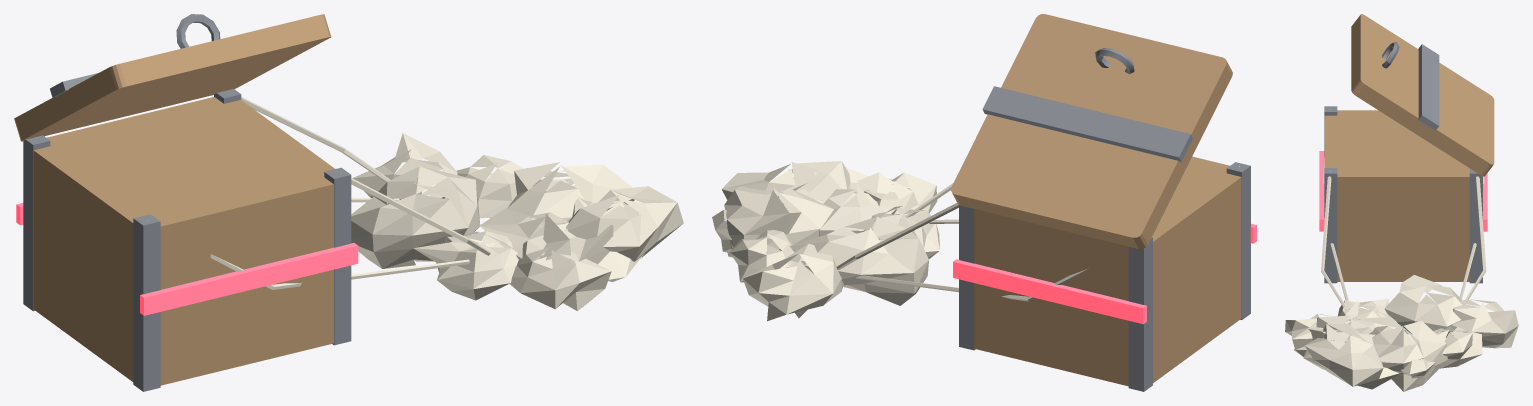
The model's file is pickups-and-collectibles-supply-drop-landed-68ff6a21__19972.glb.
3 views of the same model, side by side, from view 1: azimuth 30°, elevation 25°; view 2: azimuth 150°, elevation 25°; view 3: azimuth 270°, elevation 25° (orthographic). The views are drawn at different scales.
Visible parts, largest first — view 1: body/timber, body/bone, lid/timber, body/iron, body/ruby, lid/iron; view 2: lid/timber, body/timber, body/bone, body/iron, lid/iron, body/ruby; view 3: body/timber, body/bone, lid/timber, body/iron, lid/iron, body/ruby.
Boxes of the visible parts, x1,y1,x2,y2 form: body/timber: (33, 97, 334, 385); body/bone: (35, 91, 683, 311); lid/timber: (14, 14, 331, 141); body/iron: (23, 89, 351, 391); body/ruby: (16, 203, 358, 315); lid/iron: (50, 14, 220, 97); lid/timber: (951, 14, 1232, 248); body/timber: (974, 156, 1241, 386); body/bone: (712, 161, 1239, 321); body/iron: (959, 162, 1250, 391); lid/iron: (982, 48, 1192, 161); body/ruby: (953, 223, 1256, 324); body/timber: (1324, 110, 1469, 281); body/bone: (1285, 109, 1518, 391); lid/timber: (1351, 14, 1494, 176); body/iron: (1324, 106, 1482, 283); lid/iron: (1382, 42, 1439, 130); body/ruby: (1319, 151, 1487, 231).
Size of the model in its own units: 1.65 by 0.9048 by 0.8885.
